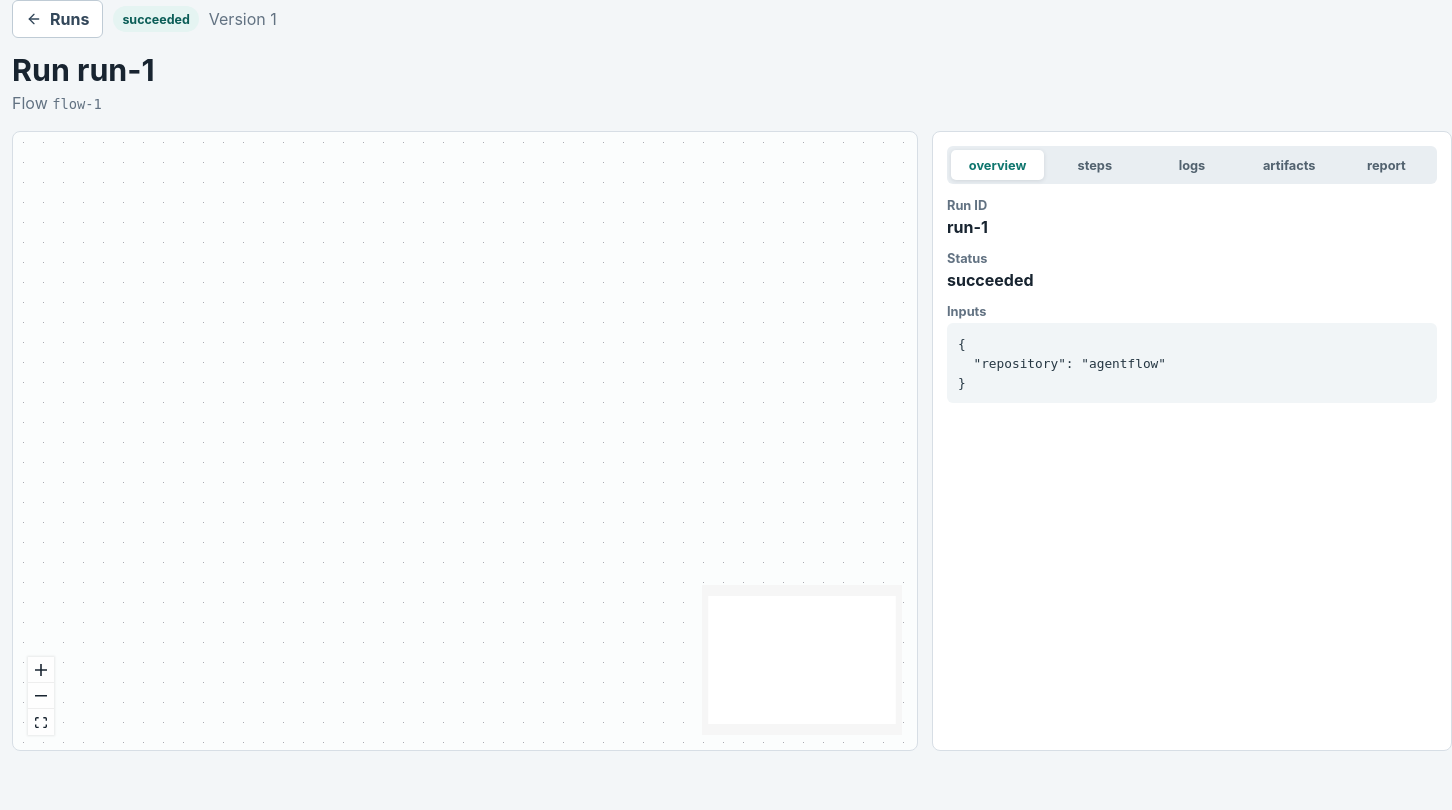
Test case: RunDetailPage › renders execution state, report, logs, and artifacts
Expected: the text "succeeded" next to "Version" is shown, [122, 12, 190, 26]
What coordinates should you click on to do the following:
click the button "report"
I would click on:
 (1386, 166)
Its box is [1340, 150, 1433, 180].
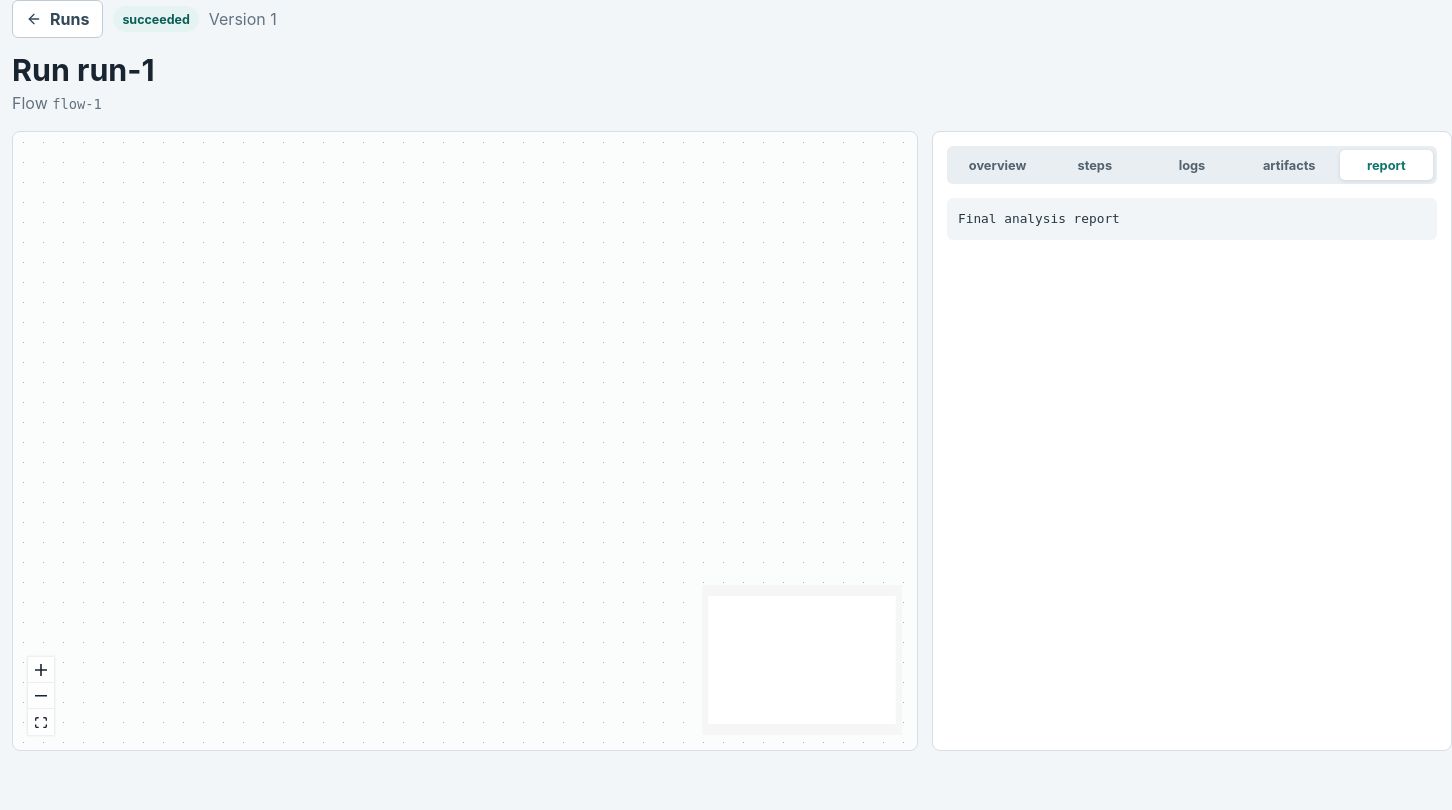
Result: the text "Final analysis report" is shown at [947, 198, 1437, 240]
What coordinates should you click on to do the following:
click the button "logs"
I would click on:
 (1192, 166)
Its box is [1145, 150, 1239, 180].
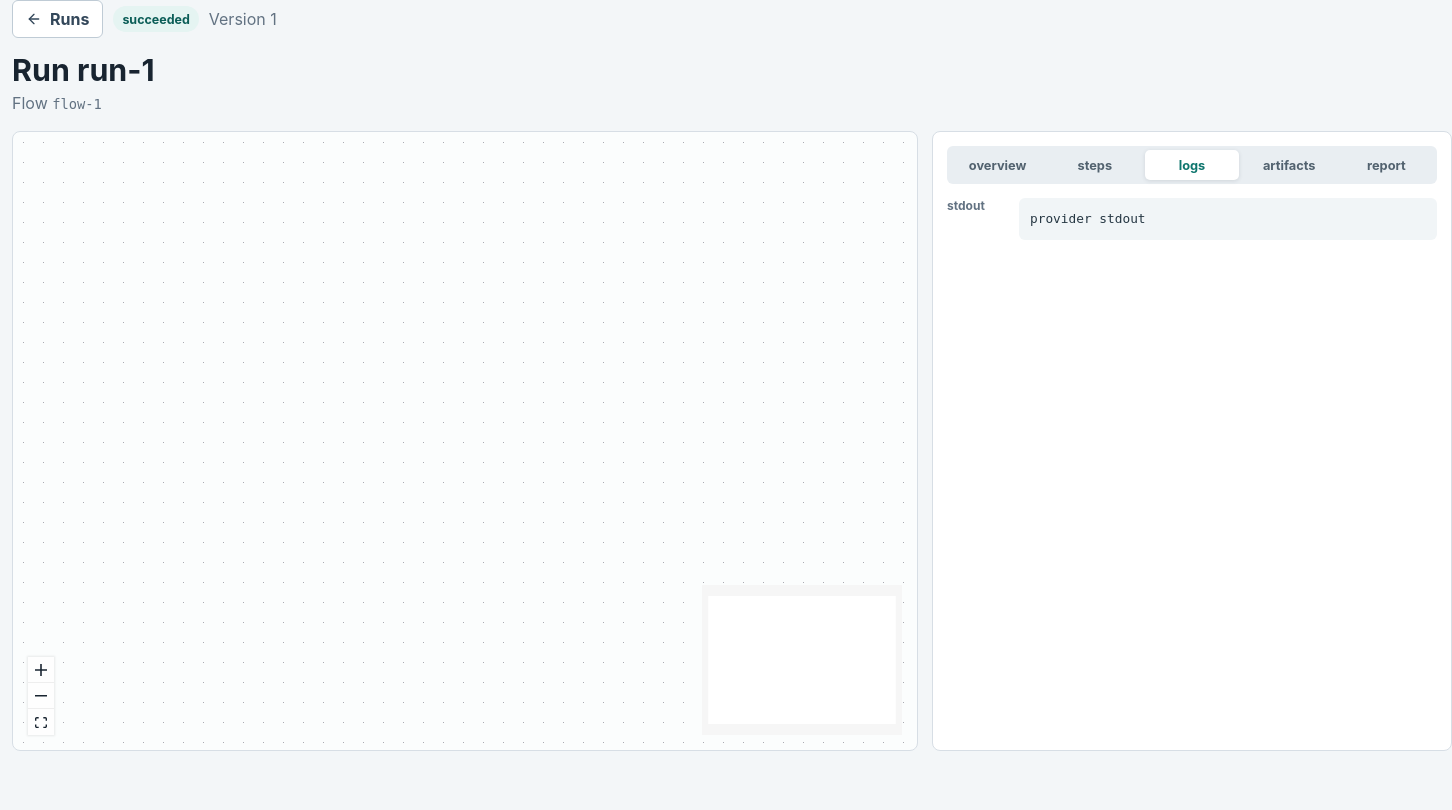
Result: the text "provider stdout" is shown at [1019, 198, 1437, 240]
What coordinates should you click on to do the following:
click the button "artifacts"
I would click on:
 (1289, 166)
Its box is [1243, 150, 1336, 180].
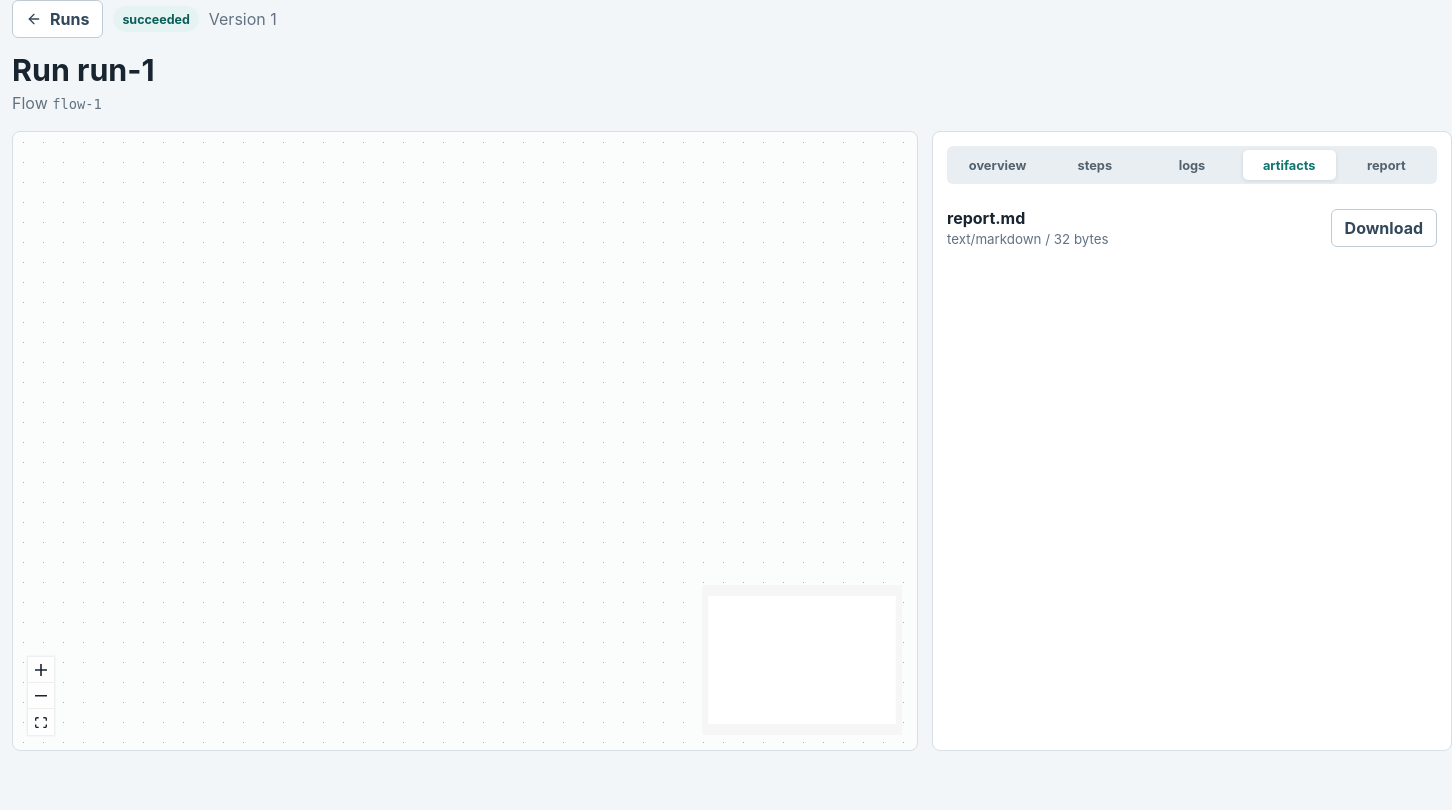
Result: the text "report.md" is shown at [947, 208, 1025, 228]
